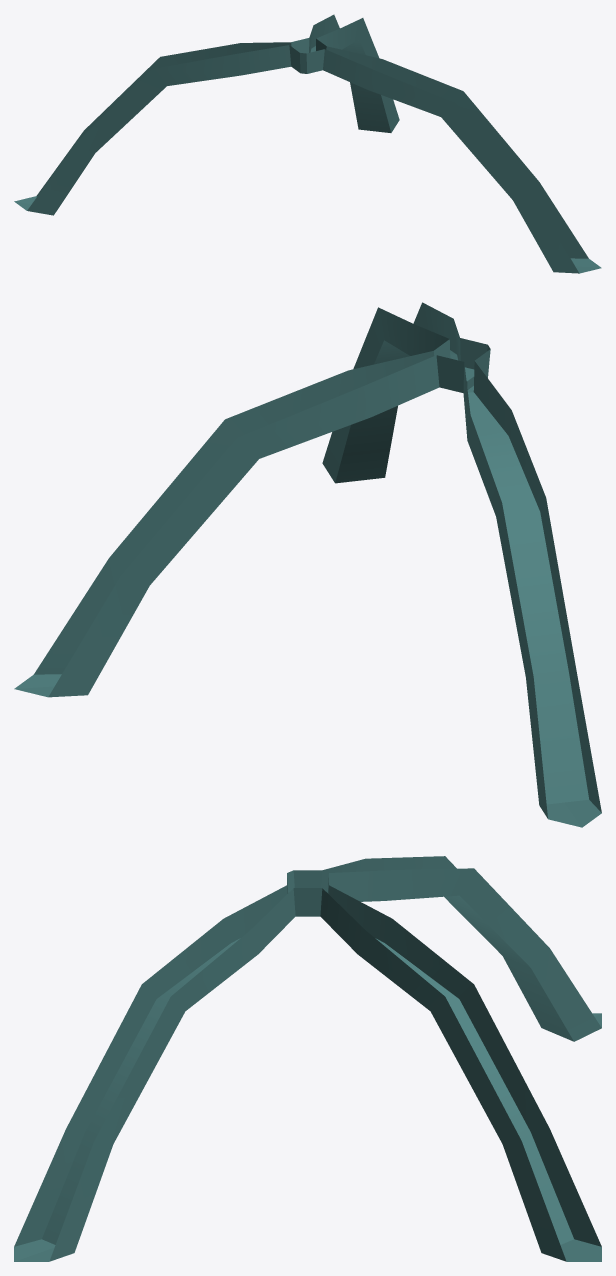
Rendered from OpenTop_3Sided.fbx.
3 renders of one model, top to bottom at view 1: azimuth 30°, elevation 25°; view 2: azimuth 150°, elevation 25°; view 3: azimuth 270°, elevation 25°, orthographic. The views are drawn at different scales.
Visible parts, largest first — view 1: OpenTop_3Sided; view 2: OpenTop_3Sided; view 3: OpenTop_3Sided.
Boxes of the visible parts, x1,y1,x2,y2 form: OpenTop_3Sided: [14, 14, 601, 273]; OpenTop_3Sided: [14, 302, 601, 827]; OpenTop_3Sided: [14, 856, 601, 1261].
Bounding box in the file's own units: 400 × 196 × 400.
